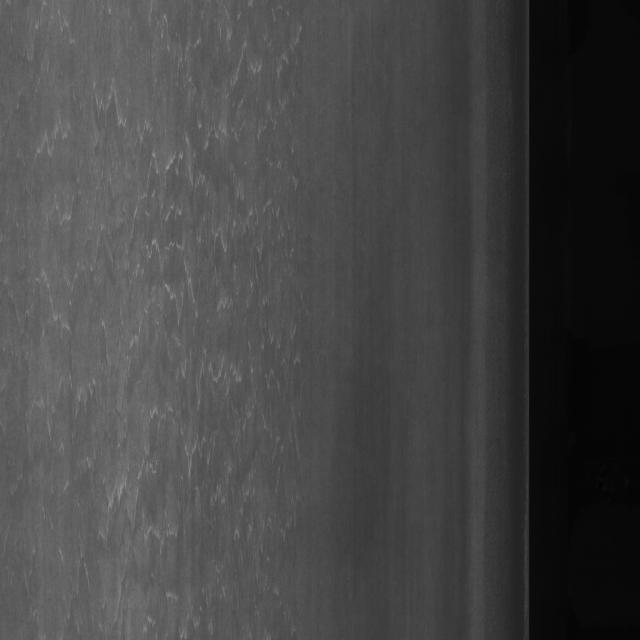inclusion: (21, 337, 290, 607), (38, 175, 256, 375), (161, 27, 313, 201), (46, 59, 178, 182)
